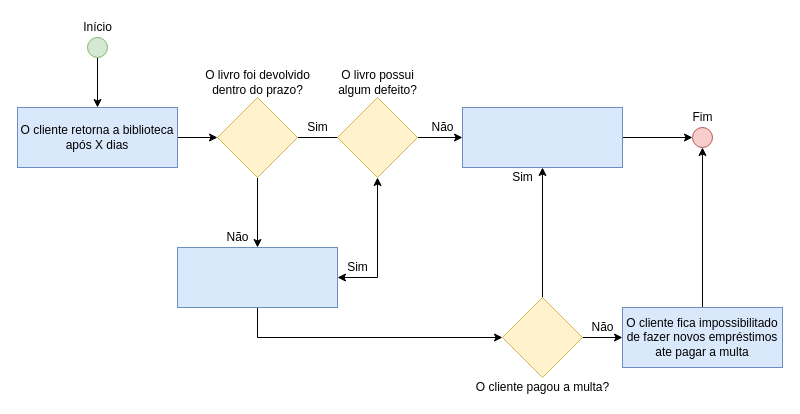
This 800x414 diagram has some shape labels left out. The box of each missing label's shape, as (x1, y1, x2, y2) in pixels:
O funcionário finaliza o registro do empréstimo: (462, 106, 622, 168)
O funcionário multa o cliente: (176, 246, 338, 308)
